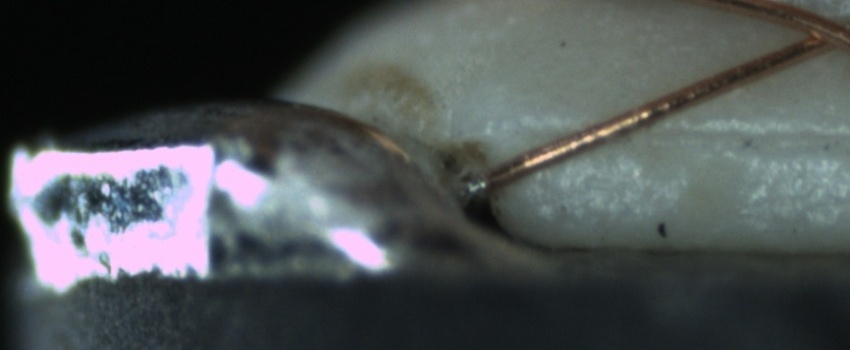CL: (779, 7, 846, 58)
DL: (534, 100, 850, 163)
